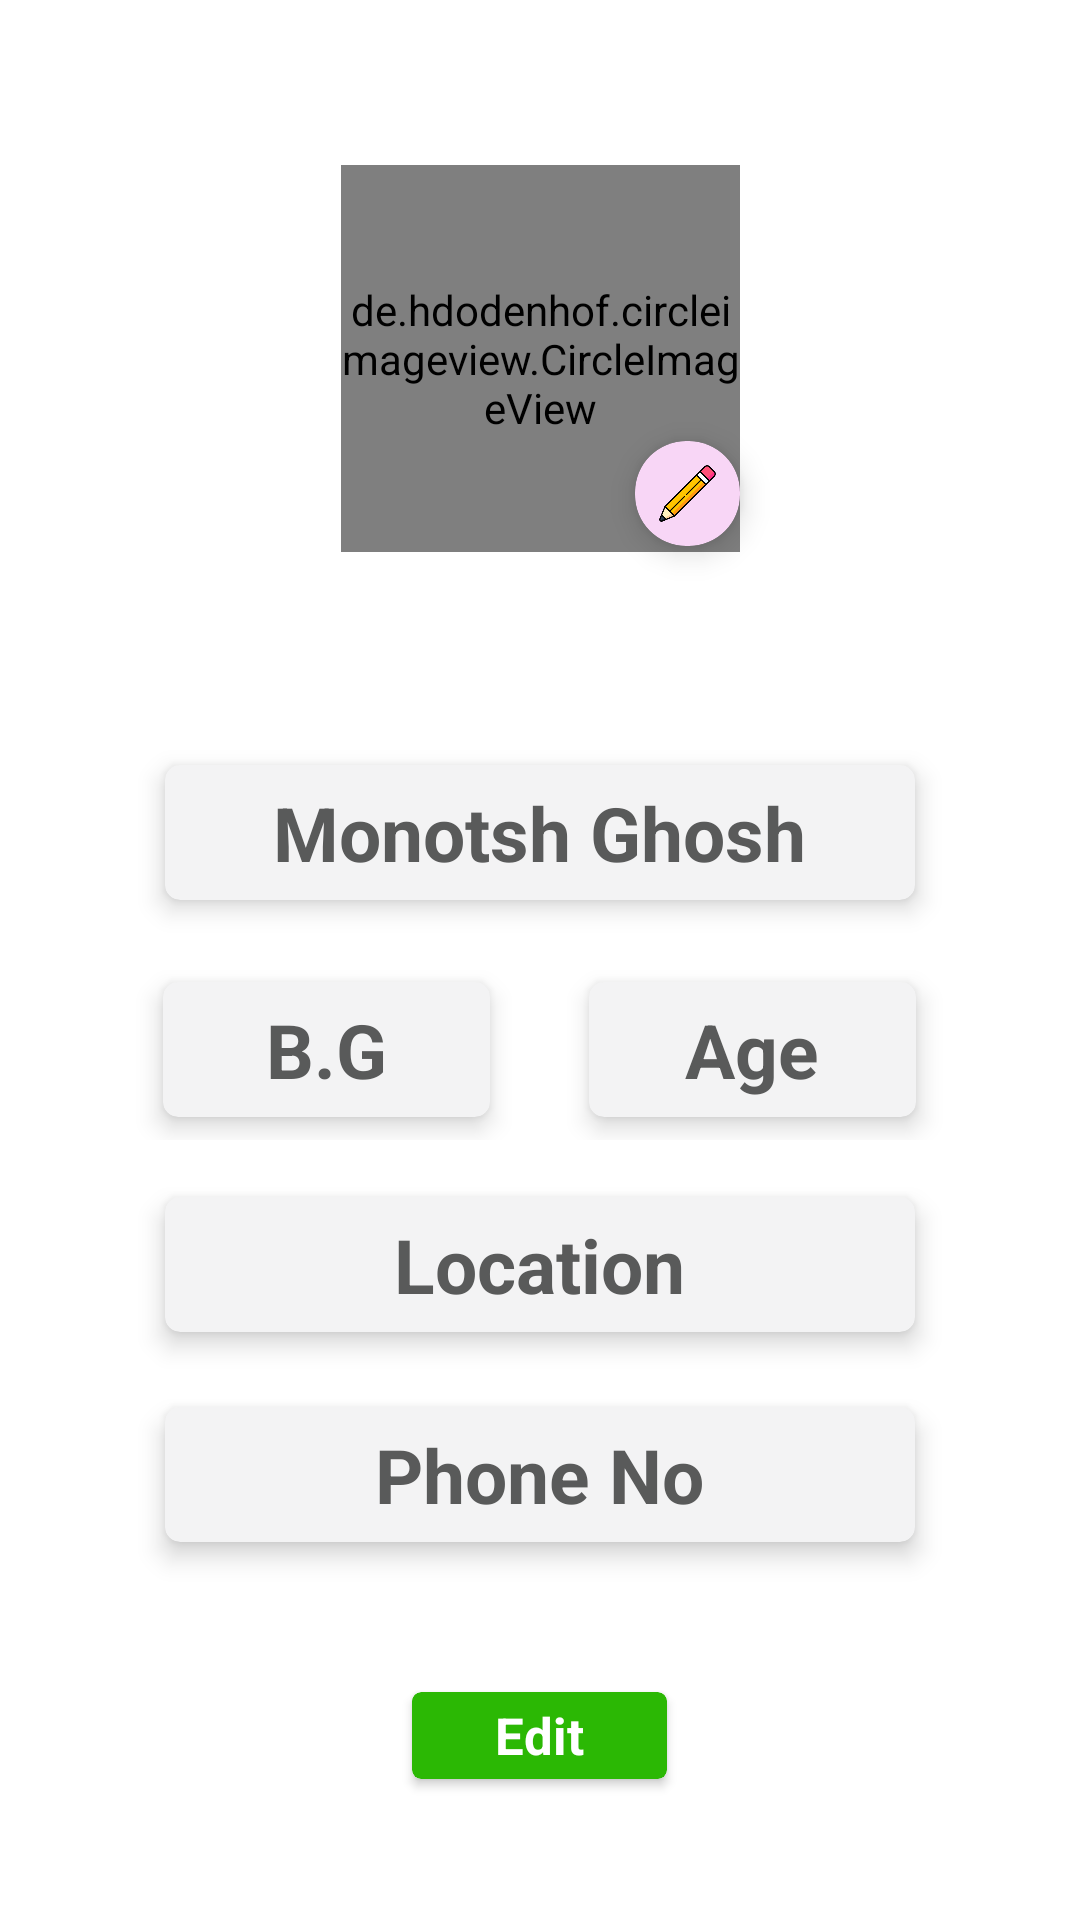

Named icons in this screenshot (1080x1920) and their bounding boxes, (x1, y1, x2, y2):
pencil: (635, 441, 740, 546)
